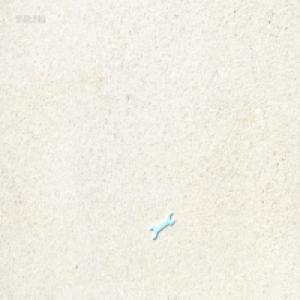Wrench: (150, 213, 174, 242)
